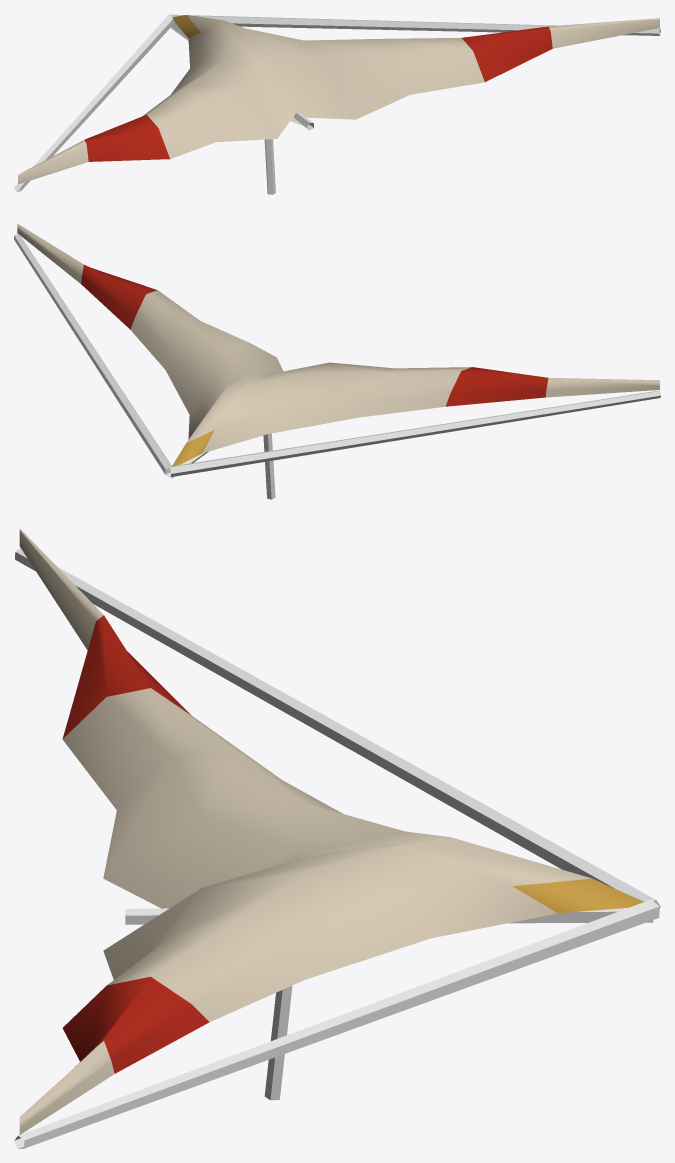
File: glider.glb
3 renders of one model, top to bottom at view 1: azimuth 30°, elevation 25°; view 2: azimuth 150°, elevation 25°; view 3: azimuth 270°, elevation 25°, orthographic. The views are drawn at different scales.
Visible parts, largest first — view 1: Glider_deco; view 2: Glider_deco; view 3: Glider_deco.
Boxes of the visible parts, x1,y1,x2,y2 form: Glider_deco: (14,14,660,194); Glider_deco: (14,223,660,499); Glider_deco: (14,528,660,1148).
Bounding box in the file's own units: 3.32 × 0.7192 × 1.53.
